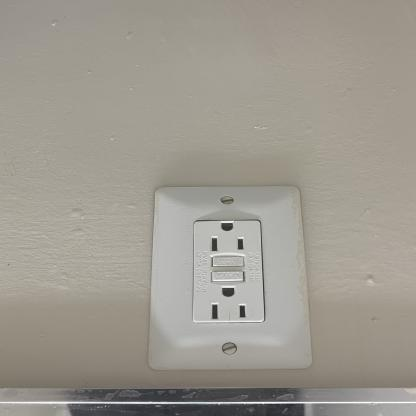OUTLET: (149, 185, 307, 371)
